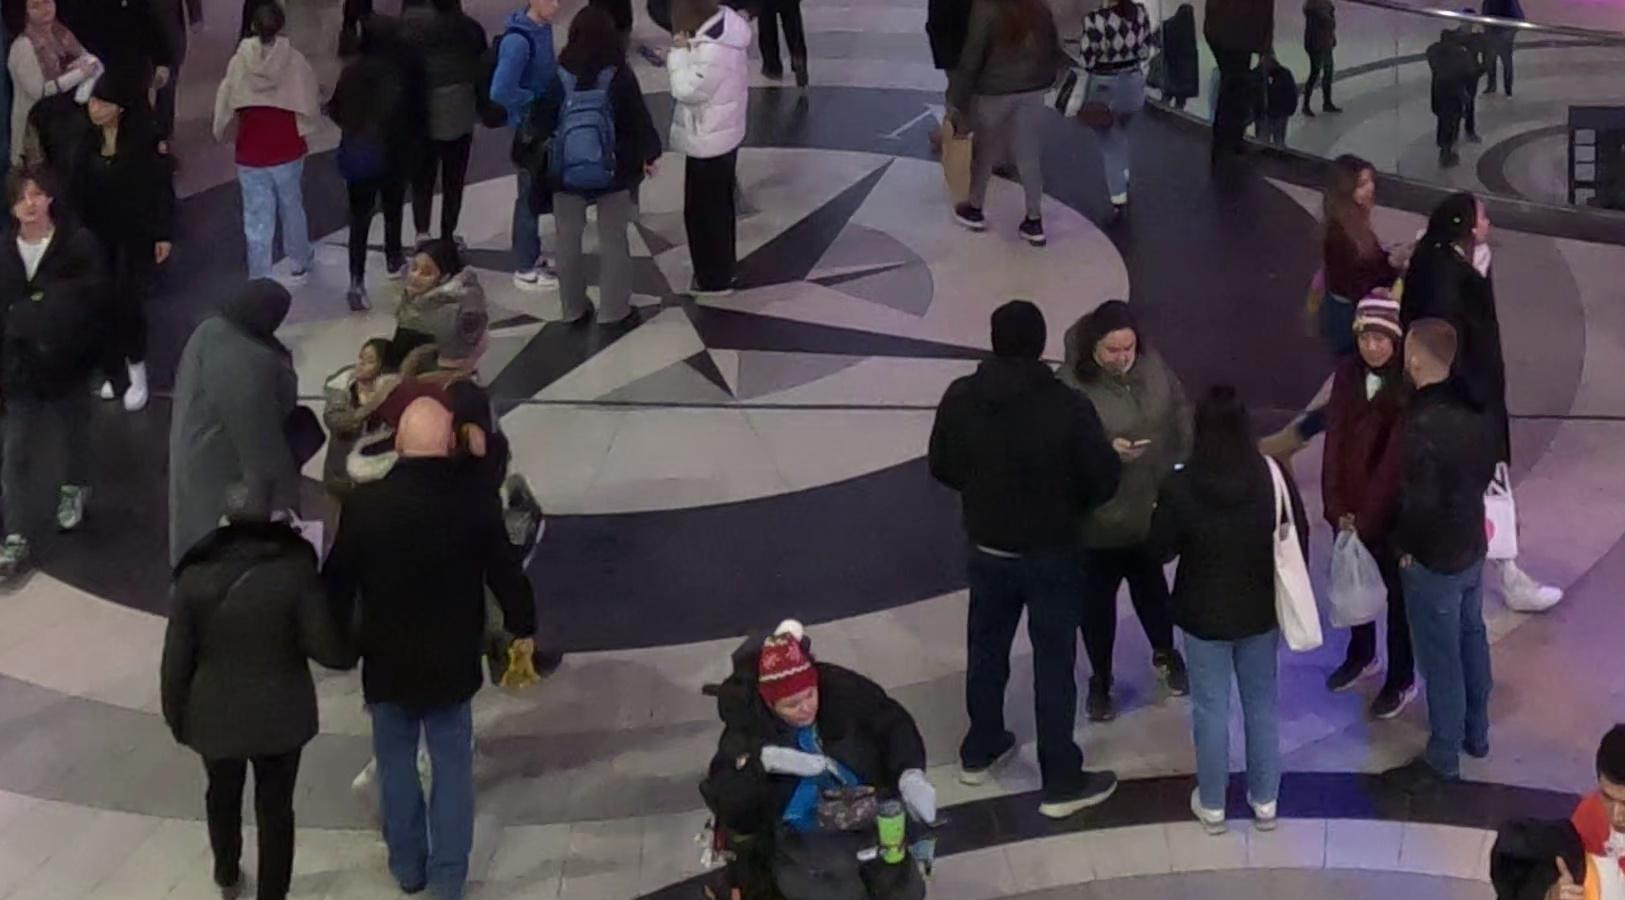person: (312, 392, 550, 897), (922, 297, 1134, 823), (151, 459, 316, 896), (696, 622, 946, 900), (1372, 307, 1504, 792), (1059, 287, 1205, 709), (1311, 281, 1418, 712), (159, 275, 310, 555), (7, 183, 103, 597), (543, 3, 659, 339), (217, 4, 347, 289), (655, 1, 768, 310), (927, 1, 1063, 253), (491, 1, 587, 310)
